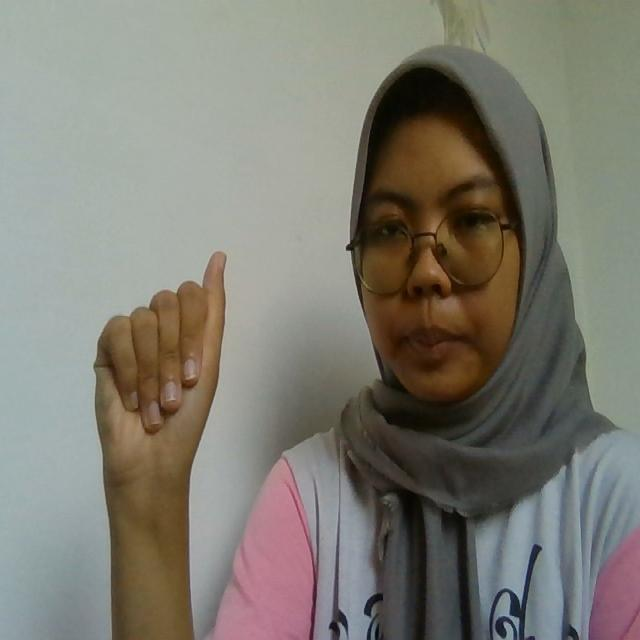A: (93, 249, 228, 482)
